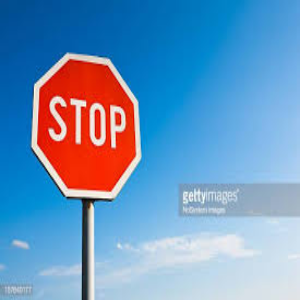STOP_SIGN: (30, 52, 142, 200)
